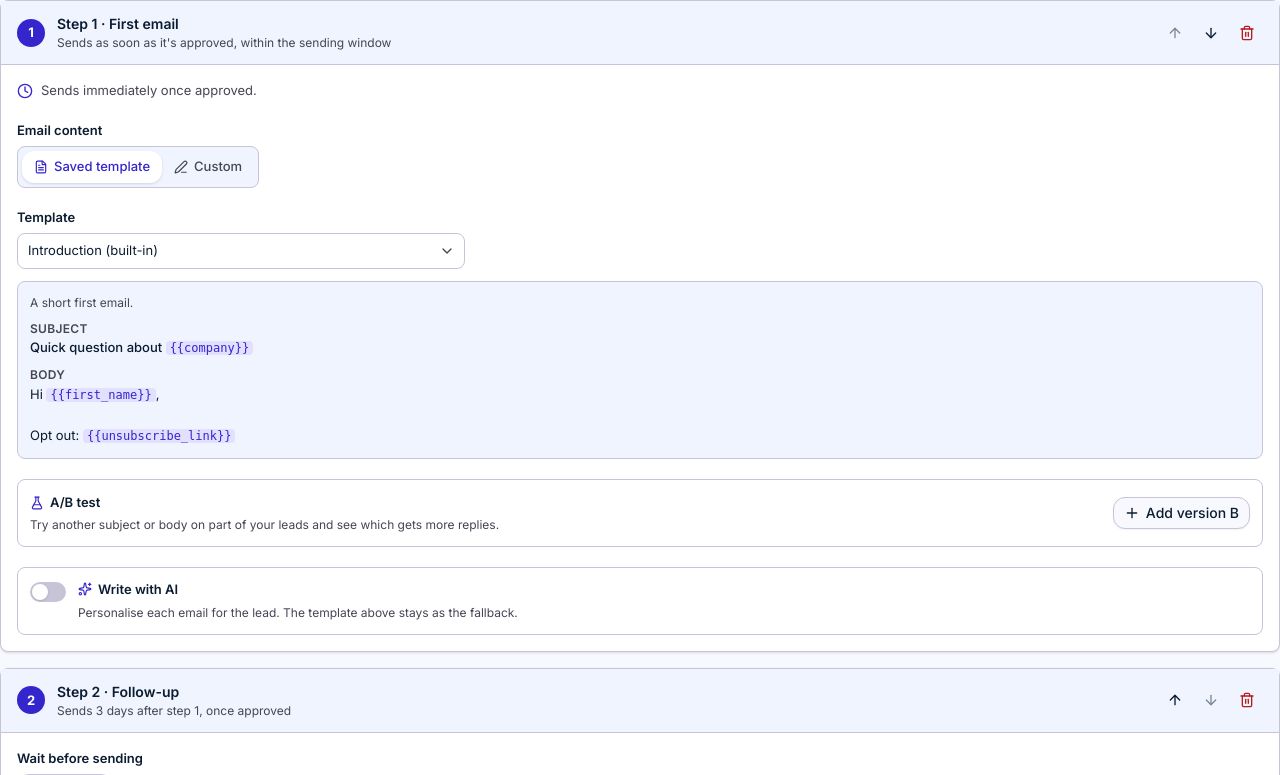
CampaignStepEditor › switching to custom copies the template text into editable fields
Click the radio button labelled "Custom" at x=208, y=167, box [162,151,254,182]
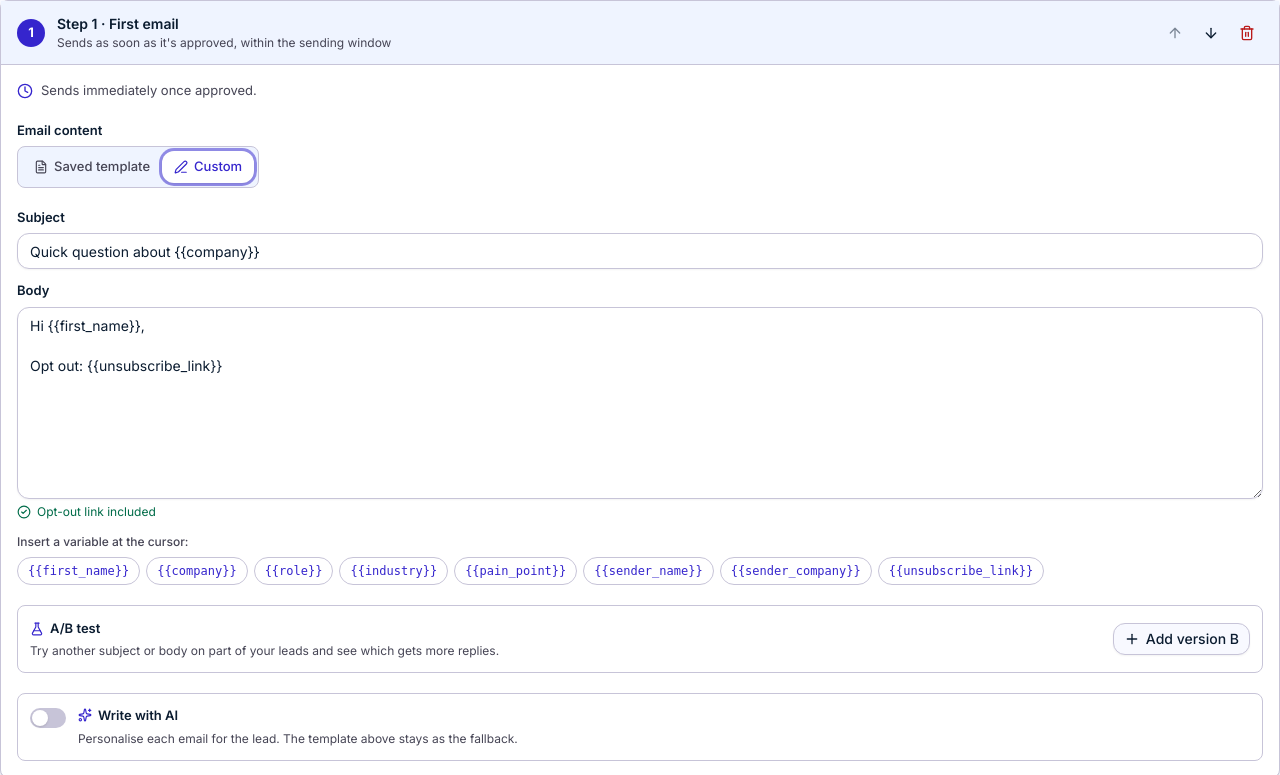
Result: the field labelled "Subject" holds "Quick question about {{company}}" at [17,233,1263,269]
Result: the text "Opt-out link included" is shown at [17,504,156,518]
